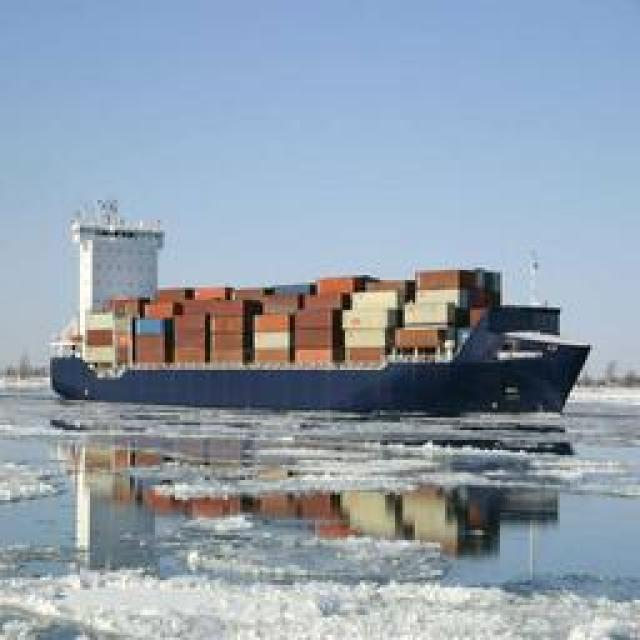CIV_Ship: (48, 222, 580, 412)
